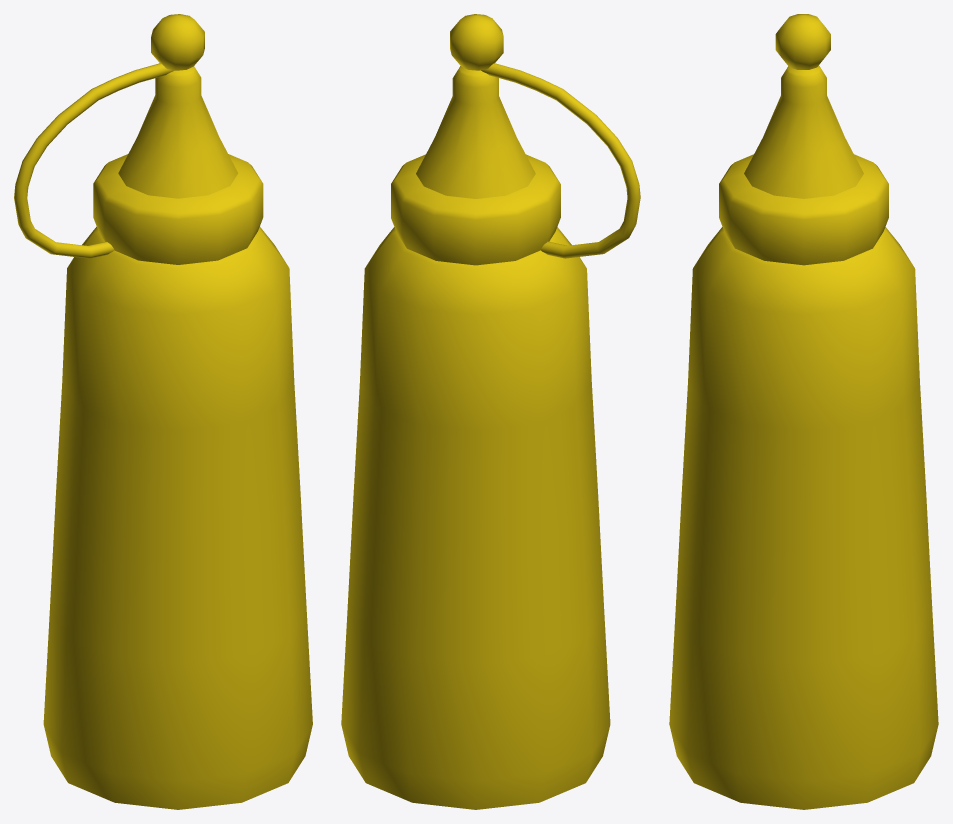
The model's file is yellow_sauce.FBX.
3 views of the same model, side by side, from view 1: azimuth 30°, elevation 25°; view 2: azimuth 150°, elevation 25°; view 3: azimuth 270°, elevation 25° (orthographic).
Visible parts, largest first — view 1: yellow_sauce; view 2: yellow_sauce; view 3: yellow_sauce.
Boxes of the visible parts, x1=… form: yellow_sauce: x1=14, y1=14, x2=312, y2=809; yellow_sauce: x1=341, y1=14, x2=640, y2=809; yellow_sauce: x1=669, y1=14, x2=938, y2=809.
Size of the model in its own units: 13.41 by 33.84 by 11.16.
